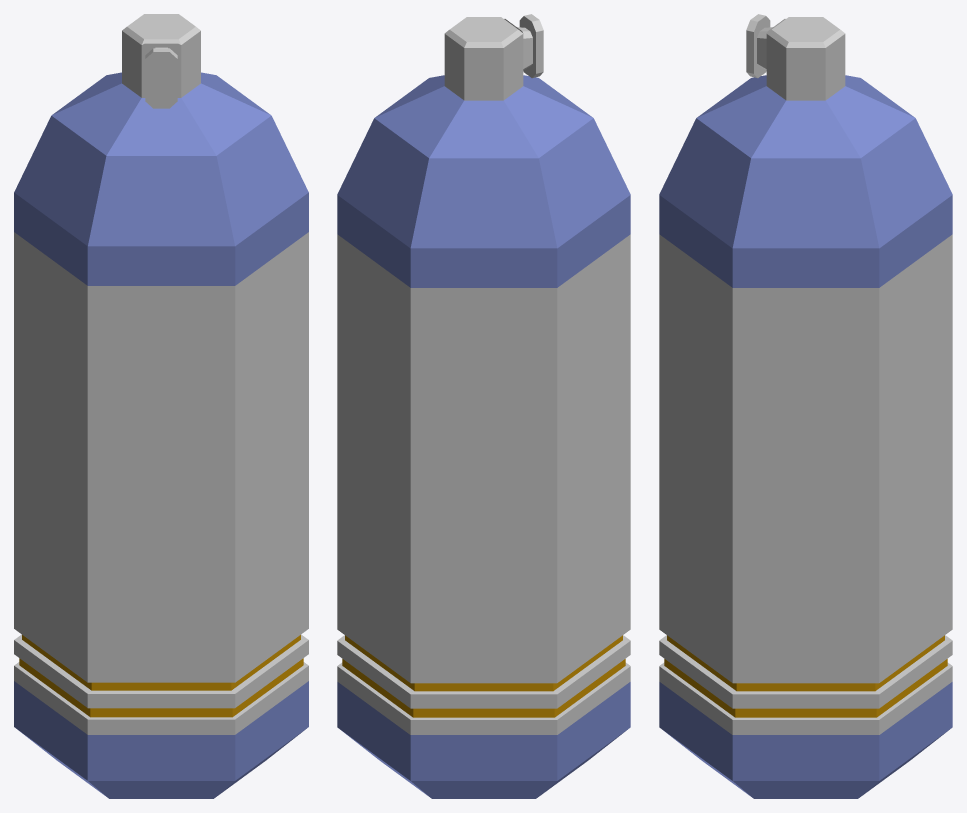
The model's file is OxygenTank.fbx.
3 views of the same model, side by side, from view 1: azimuth 30°, elevation 25°; view 2: azimuth 150°, elevation 25°; view 3: azimuth 270°, elevation 25° (orthographic).
Visible parts, largest first — view 1: OxygenTank; view 2: OxygenTank; view 3: OxygenTank.
Part boxes in pixels (box(x1,y1,x2,y2)): OxygenTank: box(14, 14, 308, 798); OxygenTank: box(337, 14, 630, 798); OxygenTank: box(659, 14, 952, 798).
Size of the model in its own units: 81.41 by 258 by 94.
